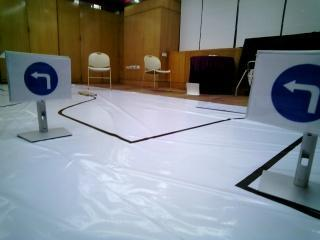left: (260, 56, 320, 126), (6, 53, 71, 97)
